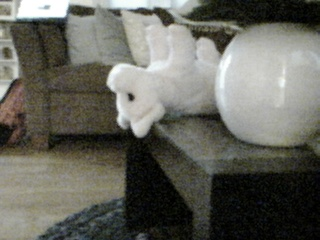piggy: (105, 23, 221, 140)
